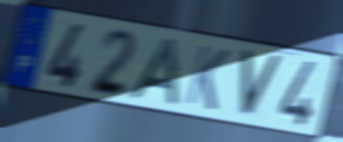2: (90, 28, 139, 99)
4: (275, 59, 318, 129), (45, 19, 85, 91)
A: (126, 35, 181, 109)
K: (183, 42, 232, 114)
V: (239, 47, 285, 121)
